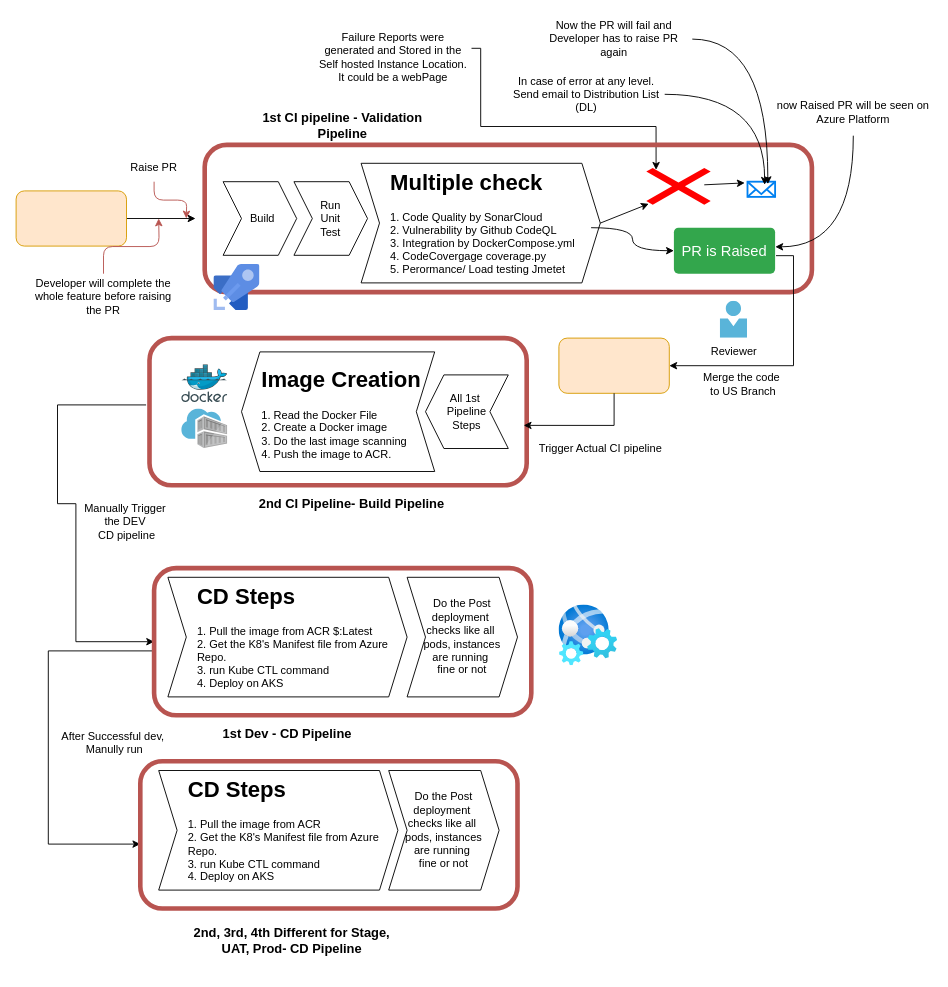
This 948x987 diagram has some shape labels left out. The shapes that lost their labels are listed below. From the top down, each one's centre as x and y in pixels, then its label:
At (70,218): "Feature Branch".
At (613,365): "User Story Branch".
At (587,634): "DEV Environment".
